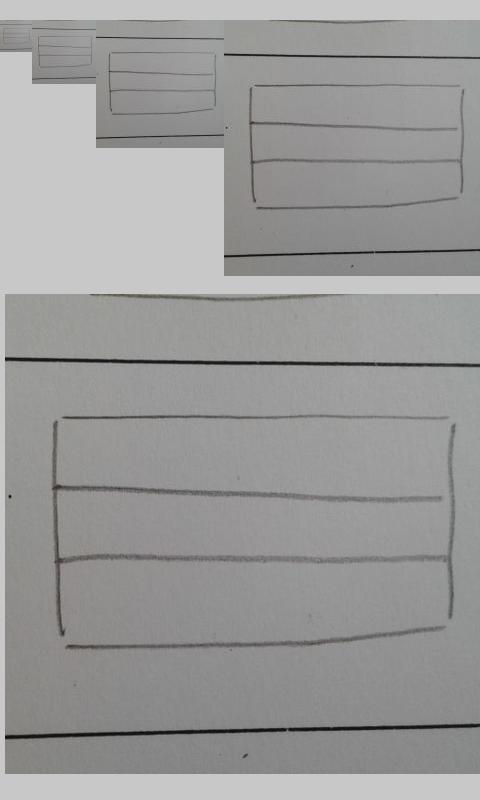list_view: (47, 409, 459, 656), (247, 82, 467, 211), (107, 50, 218, 117), (37, 35, 93, 69), (2, 27, 31, 45)
